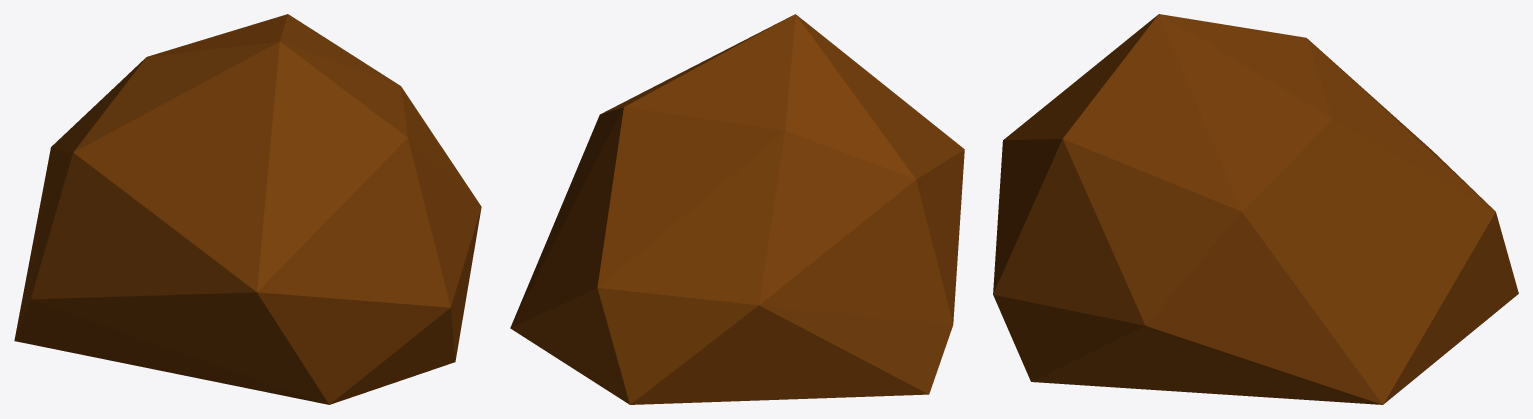
Rendered from Rock_08.fbx.
The picture shows the model from 3 angles, left to right: view 1: azimuth 30°, elevation 25°; view 2: azimuth 150°, elevation 25°; view 3: azimuth 270°, elevation 25°; orthographic projection. The views are drawn at different scales.
Visible parts, largest first — view 1: Rock_08; view 2: Rock_08; view 3: Rock_08.
Boxes of the visible parts, x1,y1,x2,y2 form: Rock_08: (14, 14, 481, 404); Rock_08: (510, 14, 964, 404); Rock_08: (993, 14, 1518, 404).
Bounding box in the file's own units: 106 × 76.49 × 117.
